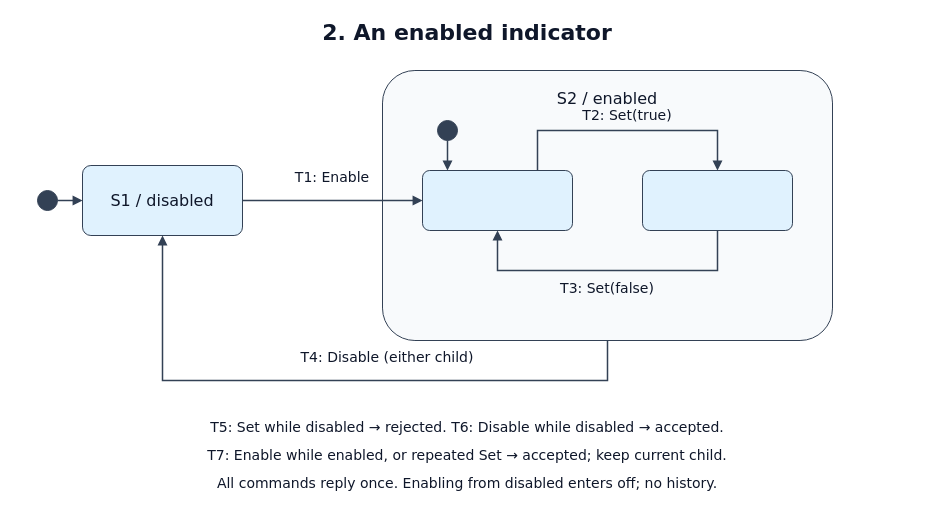
This 934x512 diagram has some shape labels left out. The shapes that lost their labels are listed below. From the top down, each one's centre as x and y in pixels, then its label:
At point (497, 200): "S3 / off".
At point (717, 200): "S4 / on".
